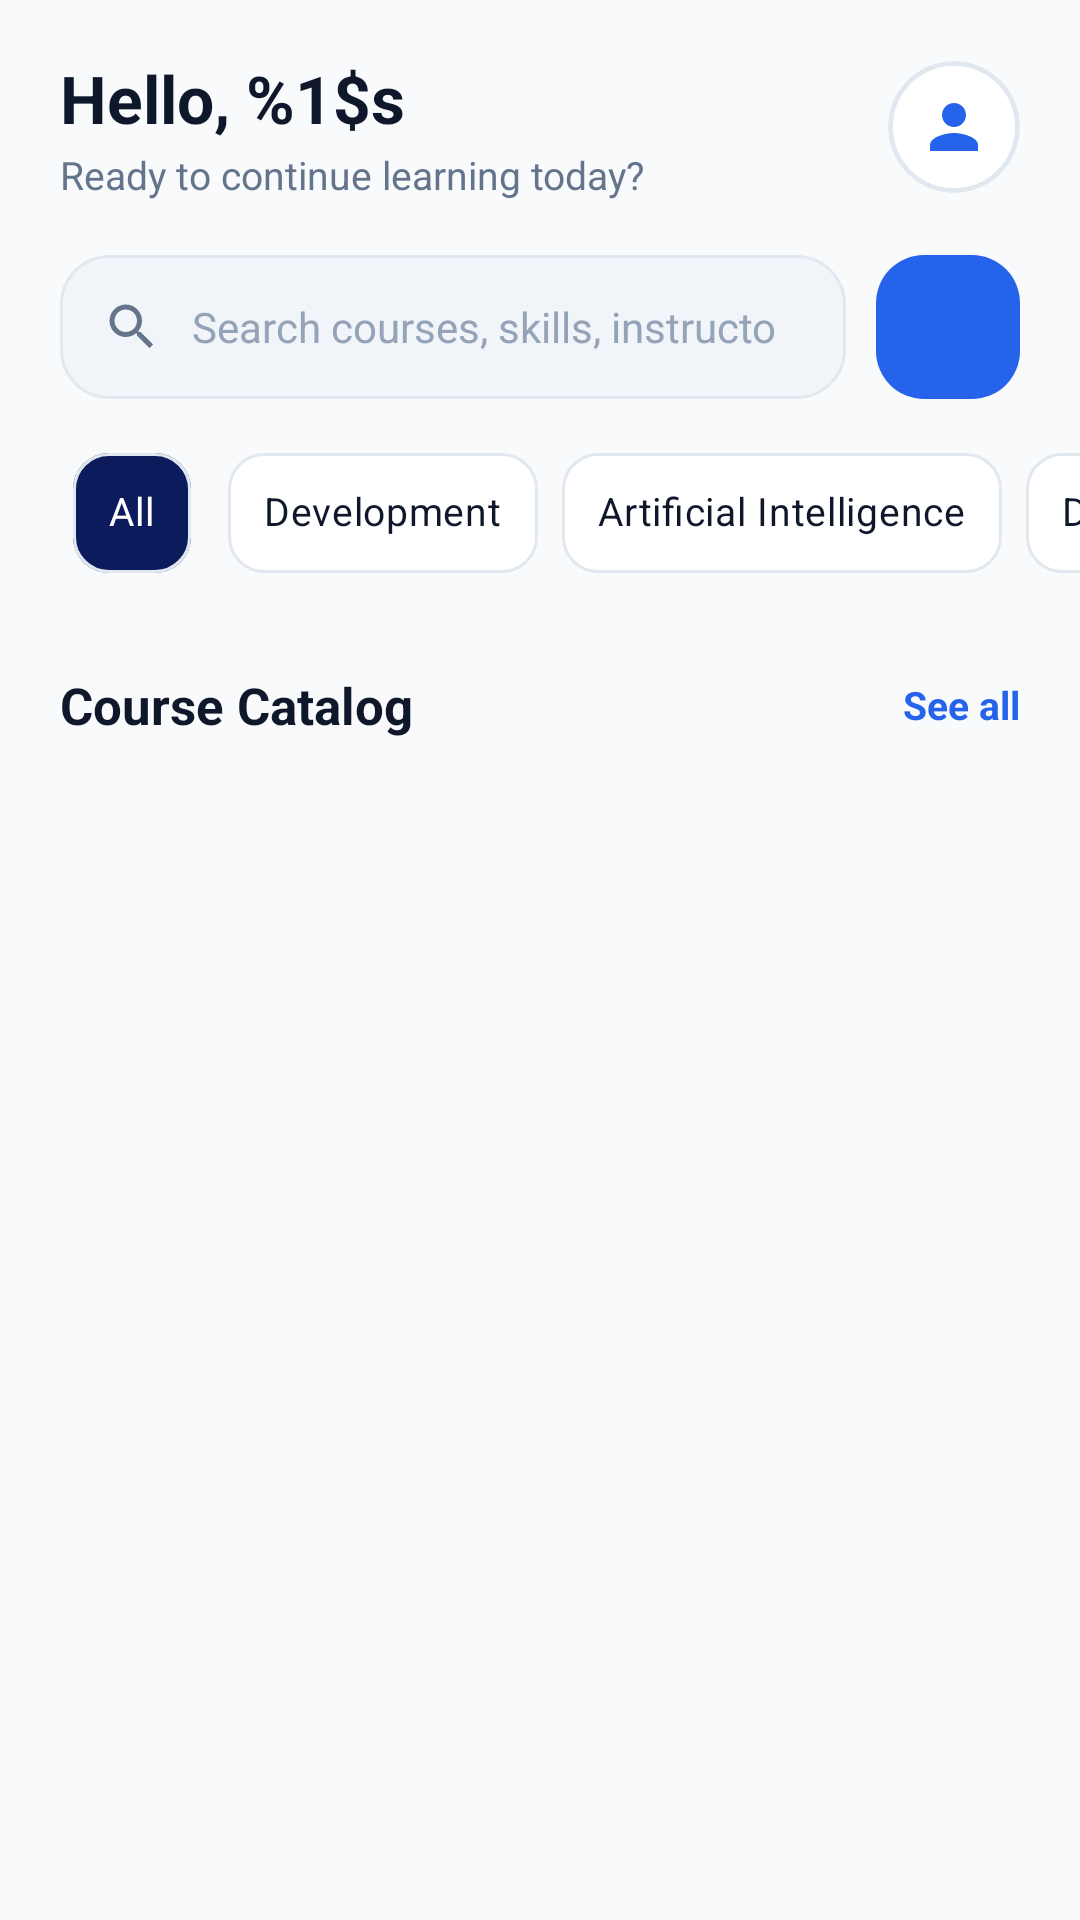

Named icons in this screenshot (1080×1920) and their centers, (x,y):
Profile: (954,127)
